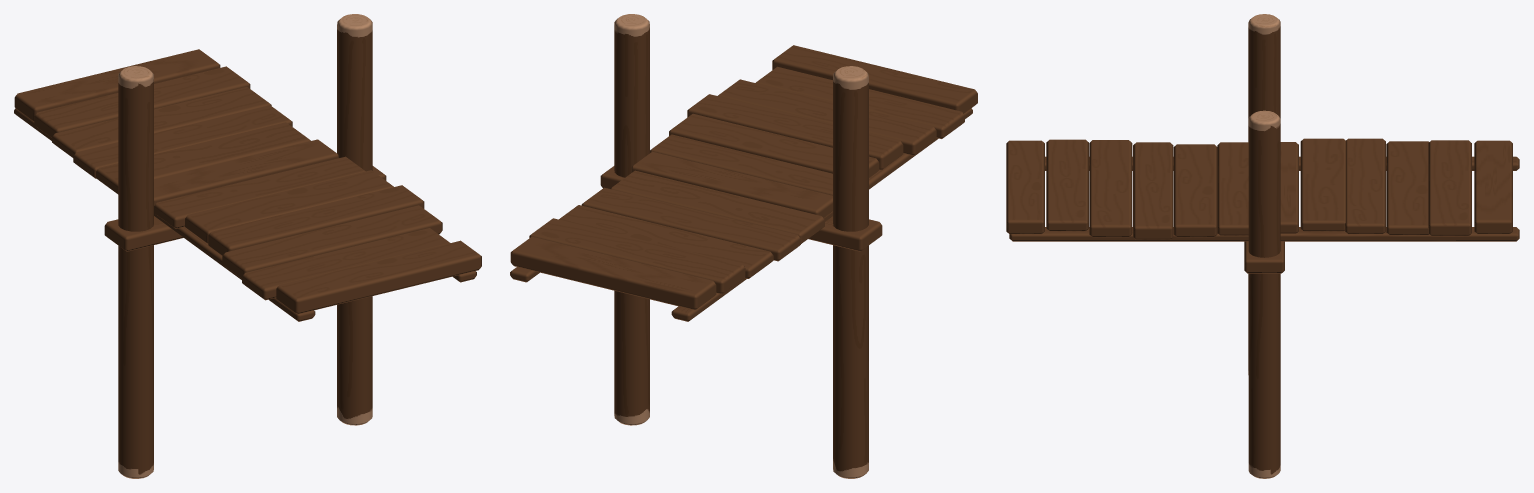
Rendered from M_Small_Long_High_2.fbx.
The picture shows the model from 3 angles, left to right: view 1: azimuth 30°, elevation 25°; view 2: azimuth 150°, elevation 25°; view 3: azimuth 270°, elevation 25°; orthographic projection. The views are drawn at different scales.
Parts seen in each view (by area): view 1: M_Small_Long_High_2; view 2: M_Small_Long_High_2; view 3: M_Small_Long_High_2.
Boxes of the visible parts, x1,y1,x2,y2 form: M_Small_Long_High_2: [14, 14, 481, 478]; M_Small_Long_High_2: [510, 14, 977, 478]; M_Small_Long_High_2: [1006, 14, 1519, 478].
Size of the model in its own units: 420 by 613 by 795.
